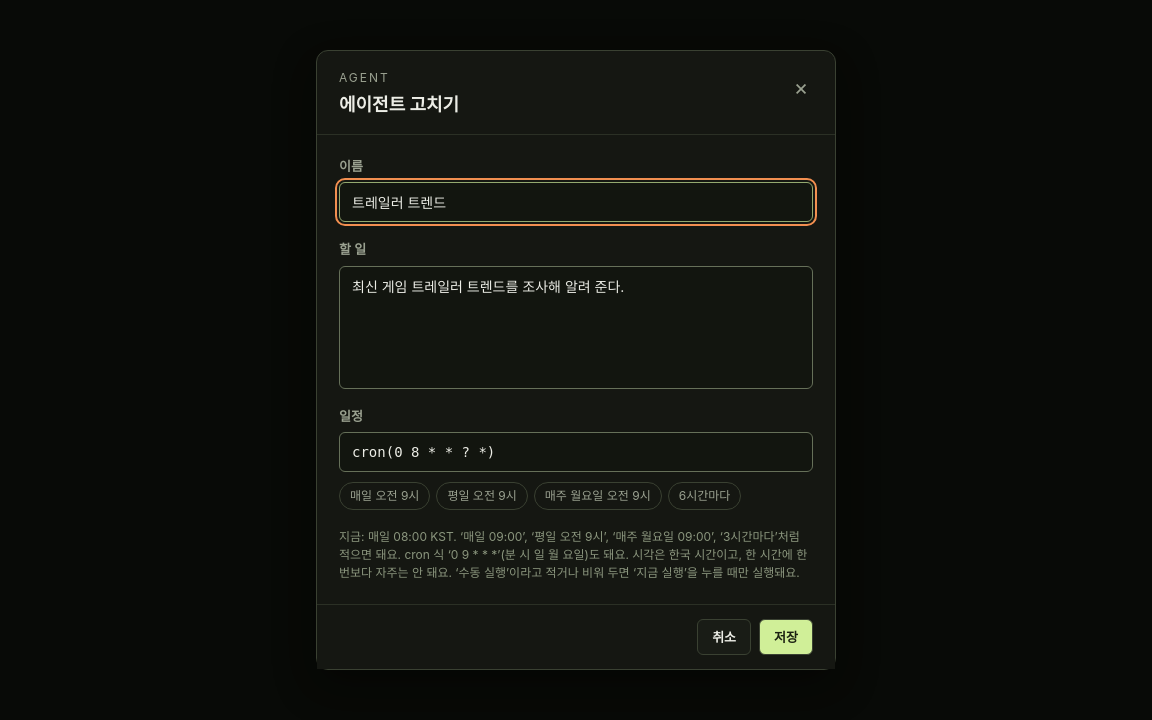
Test case: R20-44 the schedule field shows the forms the server takes › offers examples that are all in a form it takes, one click to fill each
What coordinates should you click on to do the following:
click the button "평일 오전 9시"
I would click on:
 (482, 496)
Its box is x1=436 y1=482 x2=528 y2=510.
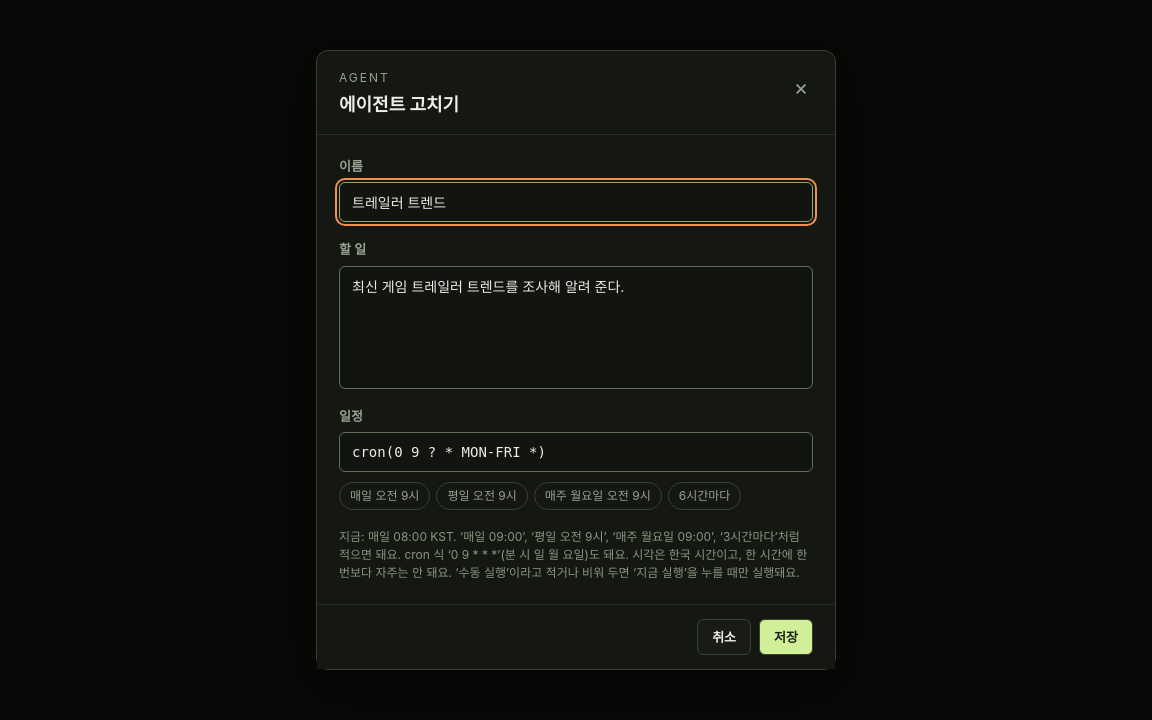
Now the field with id "agent-cron" holds "cron(0 9 ? * MON-FRI *)", box x1=339 y1=432 x2=813 y2=472
What coordinates should you click on to do the following:
click the button "6시간마다"
I would click on:
 (704, 496)
Its box is x1=668 y1=482 x2=741 y2=510.
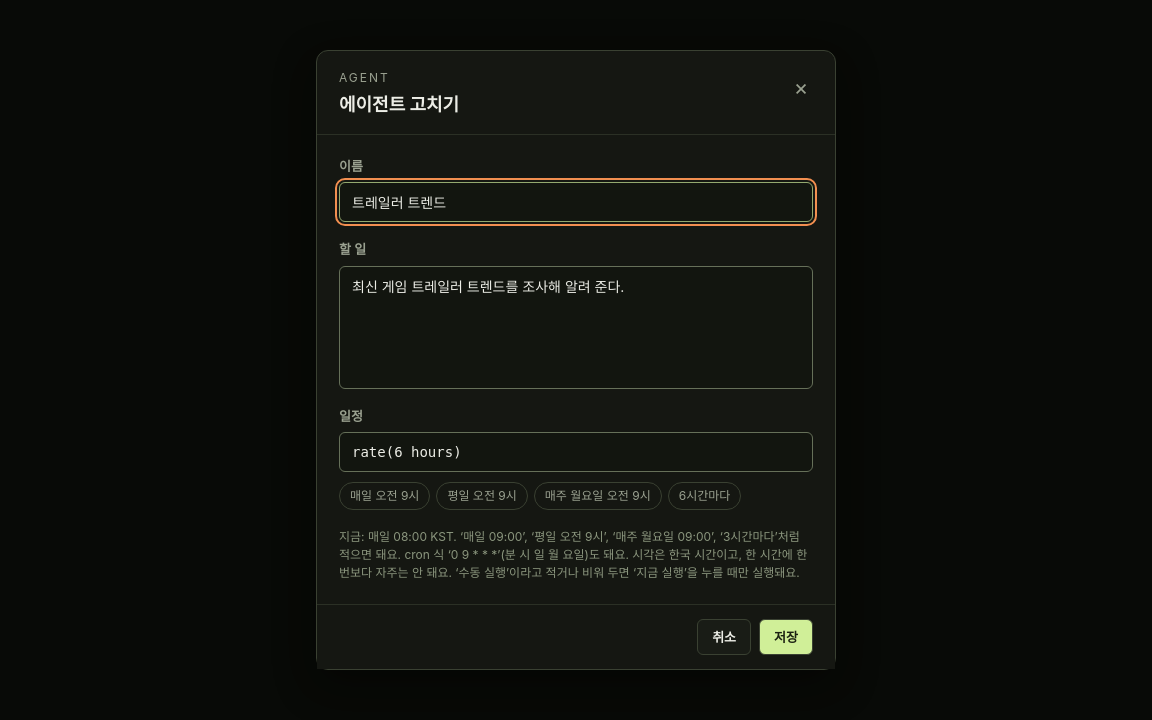
Now the field with id "agent-cron" holds "rate(6 hours)", box x1=339 y1=432 x2=813 y2=472
